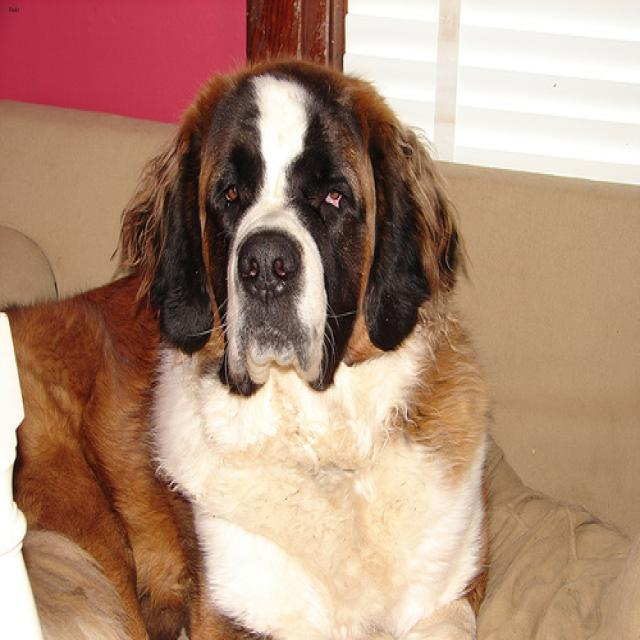dog-saint_bernard: (1, 48, 495, 637)
